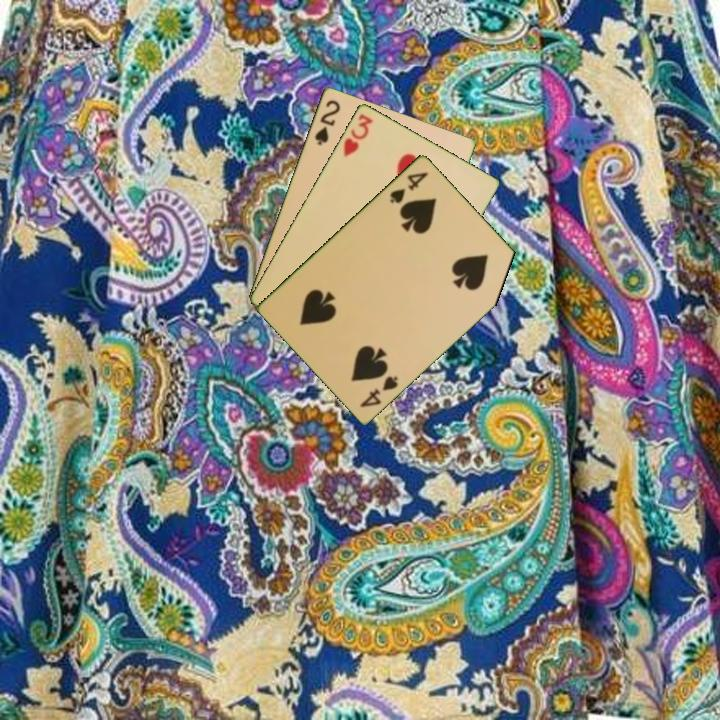2s: (311, 96, 343, 148)
3h: (340, 110, 376, 159)
4s: (386, 168, 431, 206), (356, 372, 401, 410)
